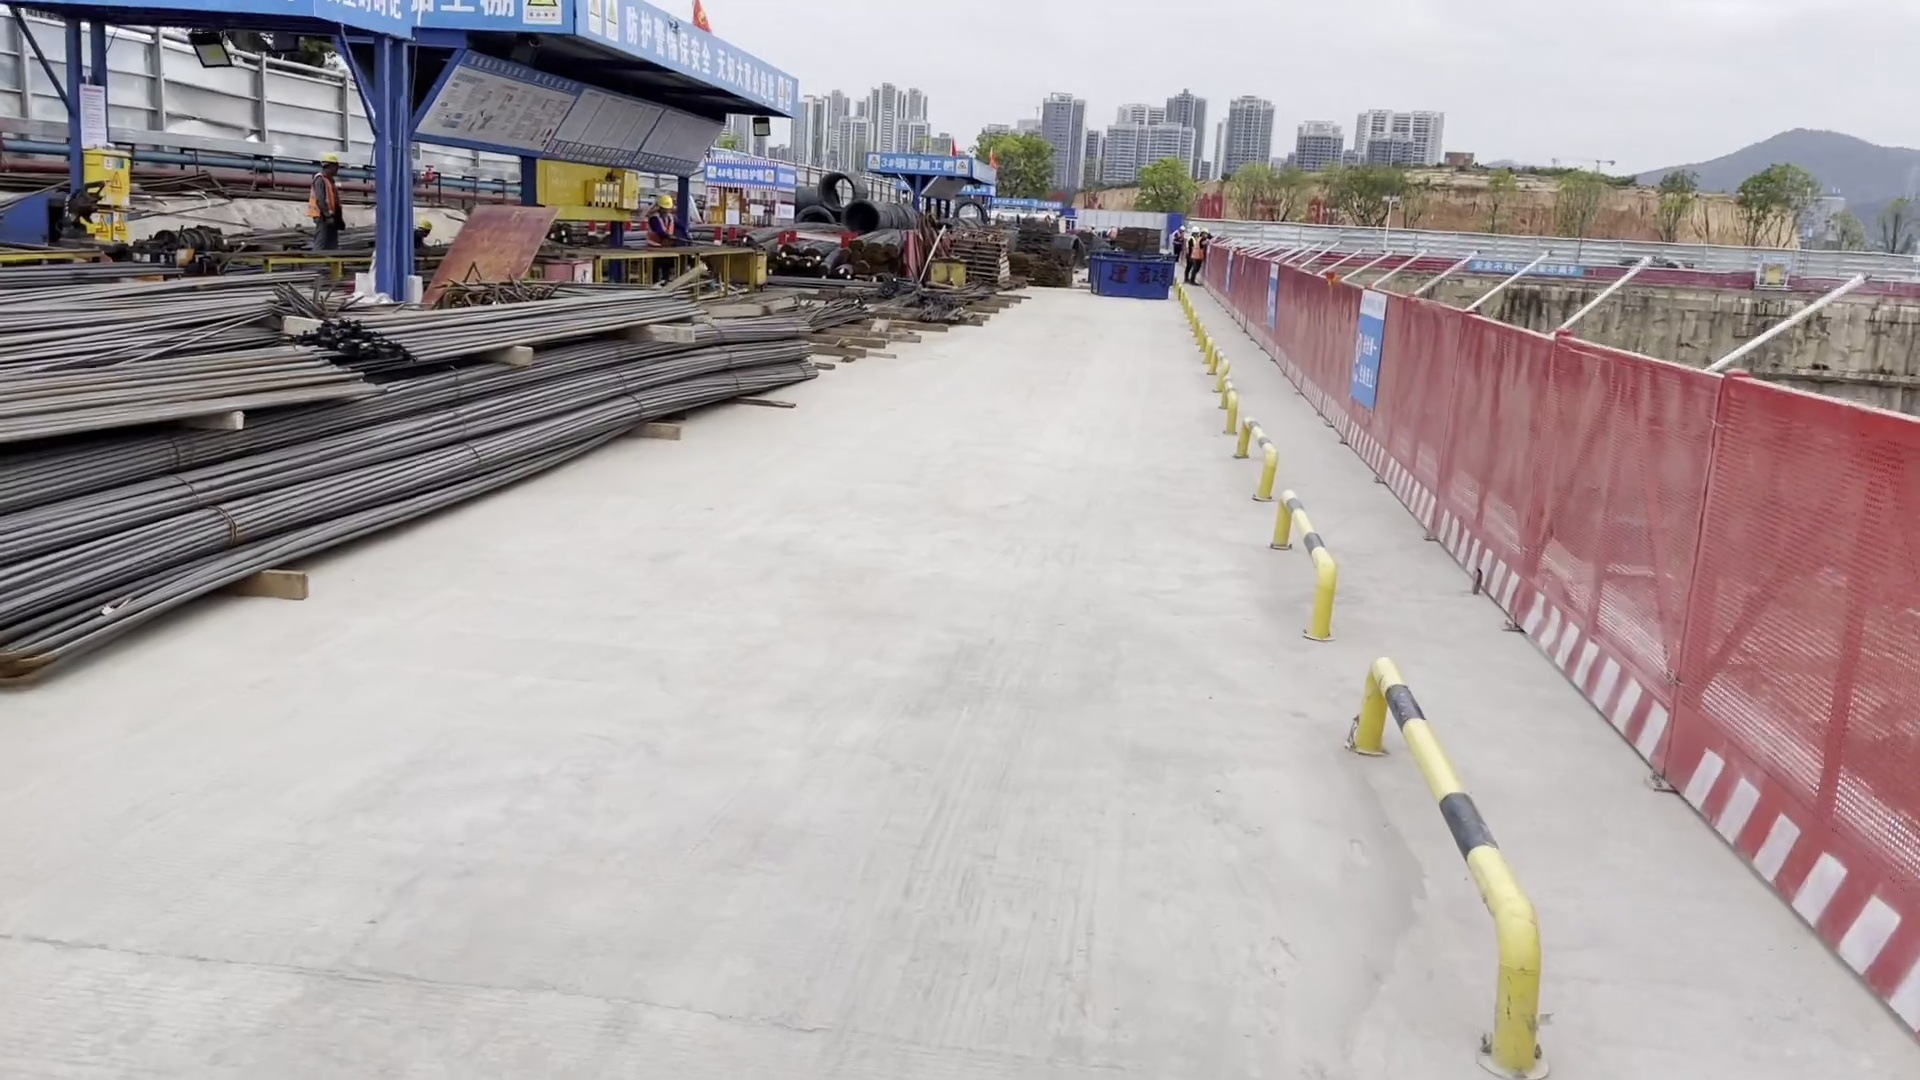ebox: (88, 143, 133, 248), (611, 163, 640, 212)
fence: (1206, 248, 1919, 1060)
helmet: (415, 218, 432, 231), (657, 195, 673, 209), (319, 154, 338, 165), (1191, 227, 1199, 234), (1201, 229, 1208, 236), (1180, 225, 1186, 232)
hopper: (1084, 252, 1174, 304)
person: (306, 152, 345, 254), (638, 193, 694, 249), (406, 216, 440, 258), (1190, 229, 1213, 286), (1184, 227, 1200, 283), (1171, 225, 1186, 264)
rebar: (8, 249, 751, 687), (1, 331, 371, 442), (325, 287, 721, 359), (782, 288, 872, 341), (741, 221, 844, 245), (881, 238, 899, 259), (807, 243, 830, 260), (818, 252, 834, 274), (832, 264, 849, 282), (751, 237, 773, 252), (778, 256, 799, 269), (846, 238, 863, 254), (866, 237, 882, 255), (854, 258, 870, 274), (780, 241, 795, 257), (799, 257, 814, 271)
slogan: (621, 2, 790, 109)
vest: (307, 172, 335, 222), (644, 212, 676, 247), (1186, 236, 1197, 258), (1193, 238, 1204, 260), (1172, 230, 1182, 244)
